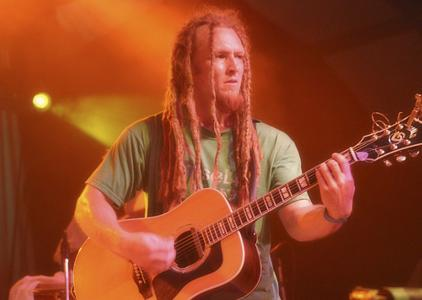person: (72, 10, 356, 299)
